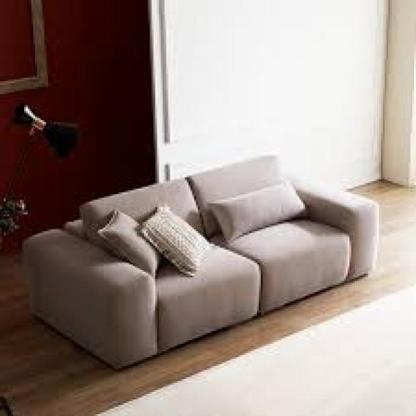Sofa: (13, 113, 382, 376)
